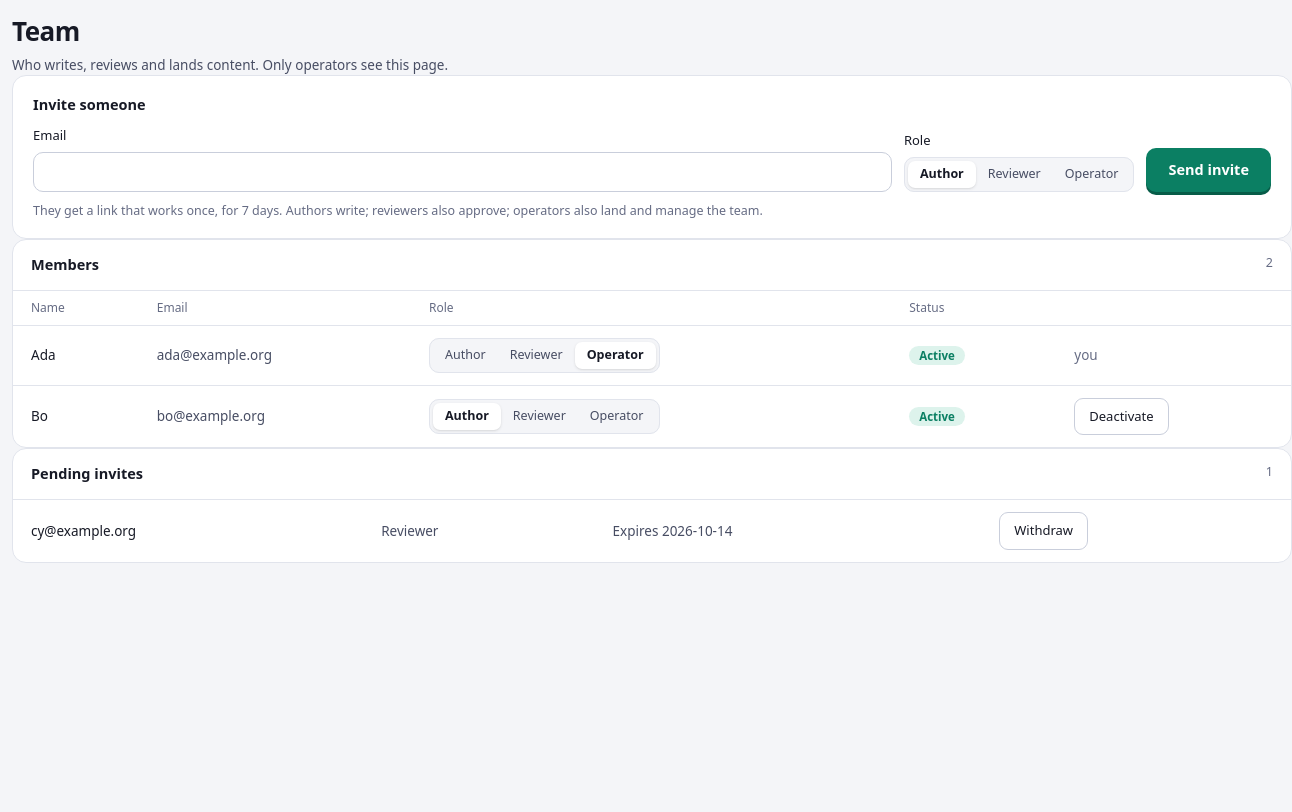
Test: TeamPage › shows the last-operator refusal and keeps the stored role
Click the radio button labelled "Author" in the row of "ada@example.org" at (465, 354), box [445,346,486,363]
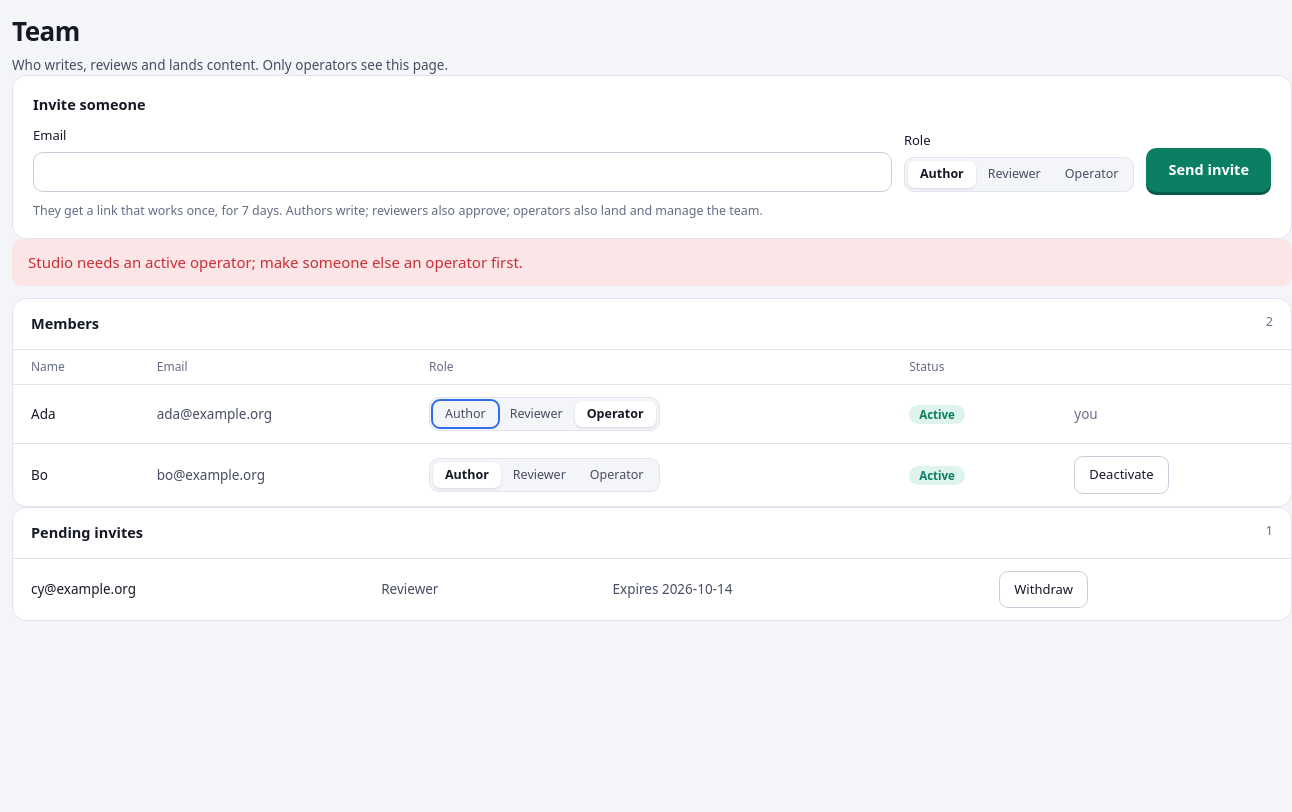
Check: the text "Studio needs an active operator; make someone else an operator first." is shown, box [12,239,1291,286]
